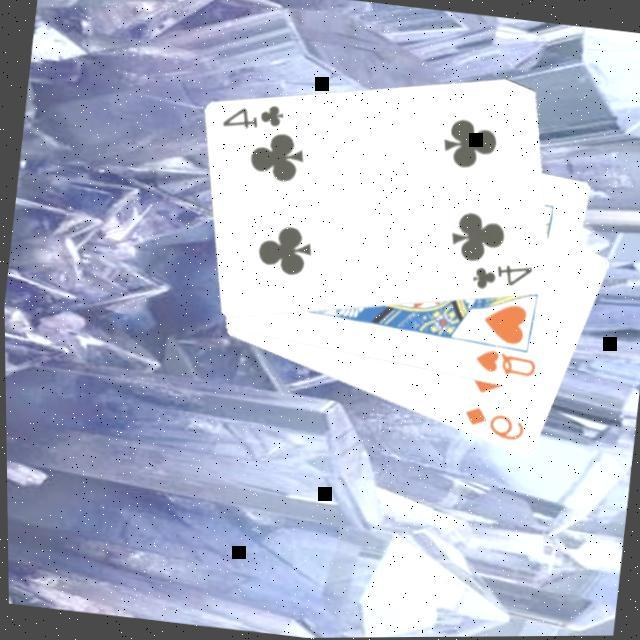4C: (219, 97, 290, 139), (469, 258, 538, 300)
6D: (459, 403, 531, 447)
QH: (471, 346, 541, 384)
